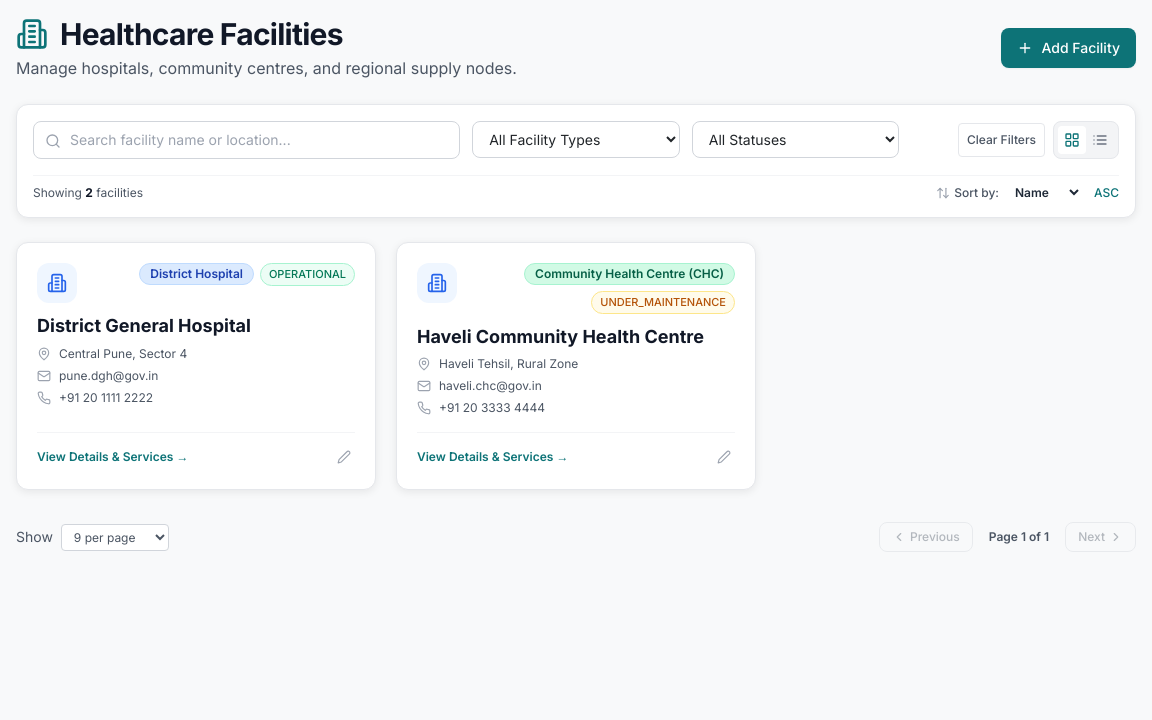
Test: Phase 21 — Facilities & Inventory UI Test Suite › 3. Opens facility details modal and renders facility services
Expected: the heading "District General Hospital" is shown, 37,315 -> 251,336
What coordinates should you click on to do the following:
click the button with test id "view-facility-1"
I would click on:
 (113, 457)
Its box is 37,445 -> 188,469.
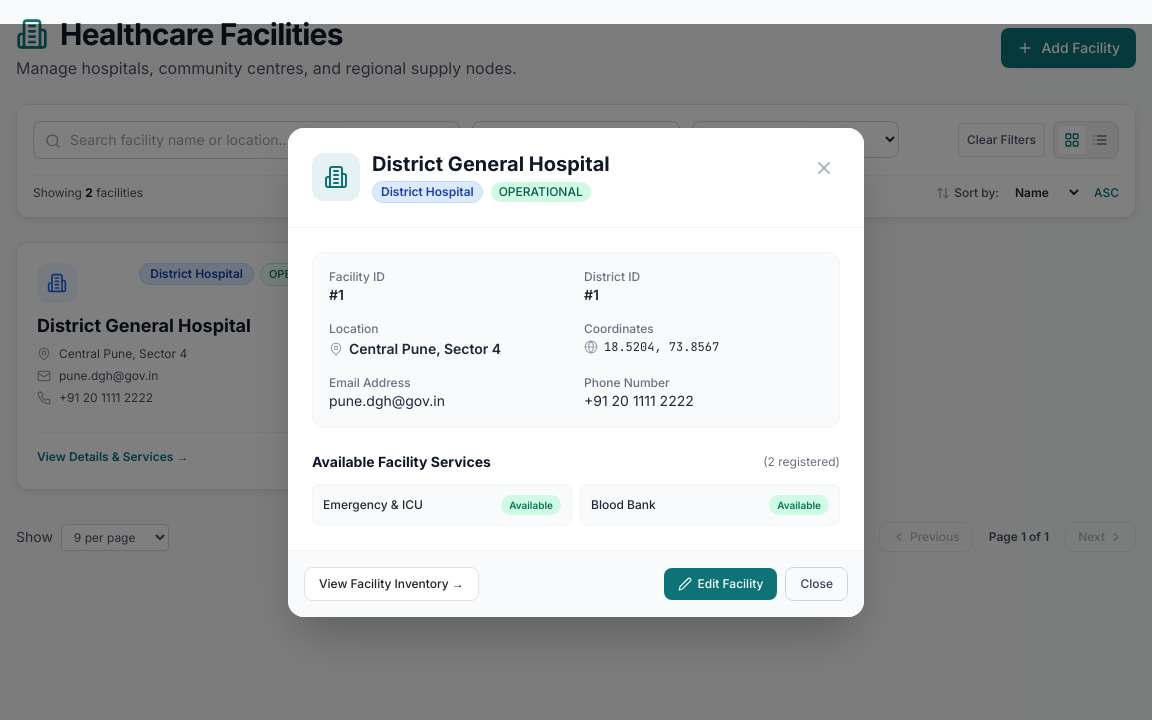
Expected: the text "Central Pune, Sector 4" is shown, 59,346 -> 187,362
Now the text "Emergency & ICU" is shown, box 323,496 -> 423,512
Now the text "Blood Bank" is shown, box 591,496 -> 656,512
